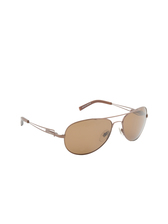glasses: (15, 93, 150, 156)
